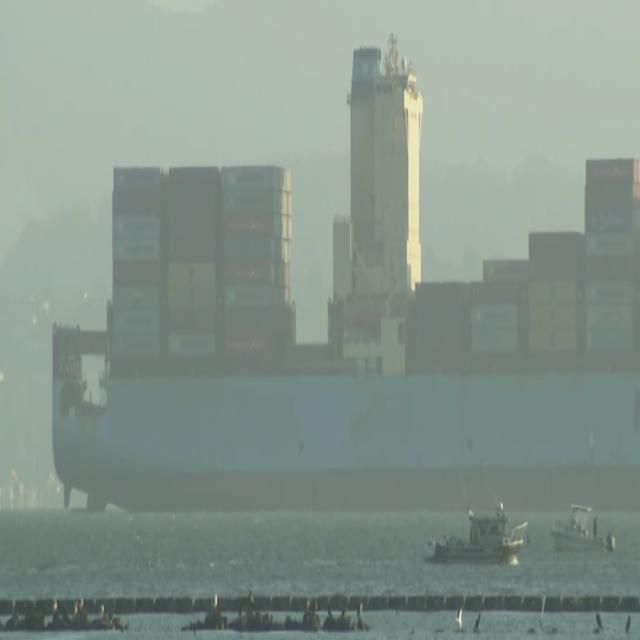cargoship: (47, 33, 640, 496)
houseboat: (424, 500, 531, 570), (548, 495, 618, 561)
